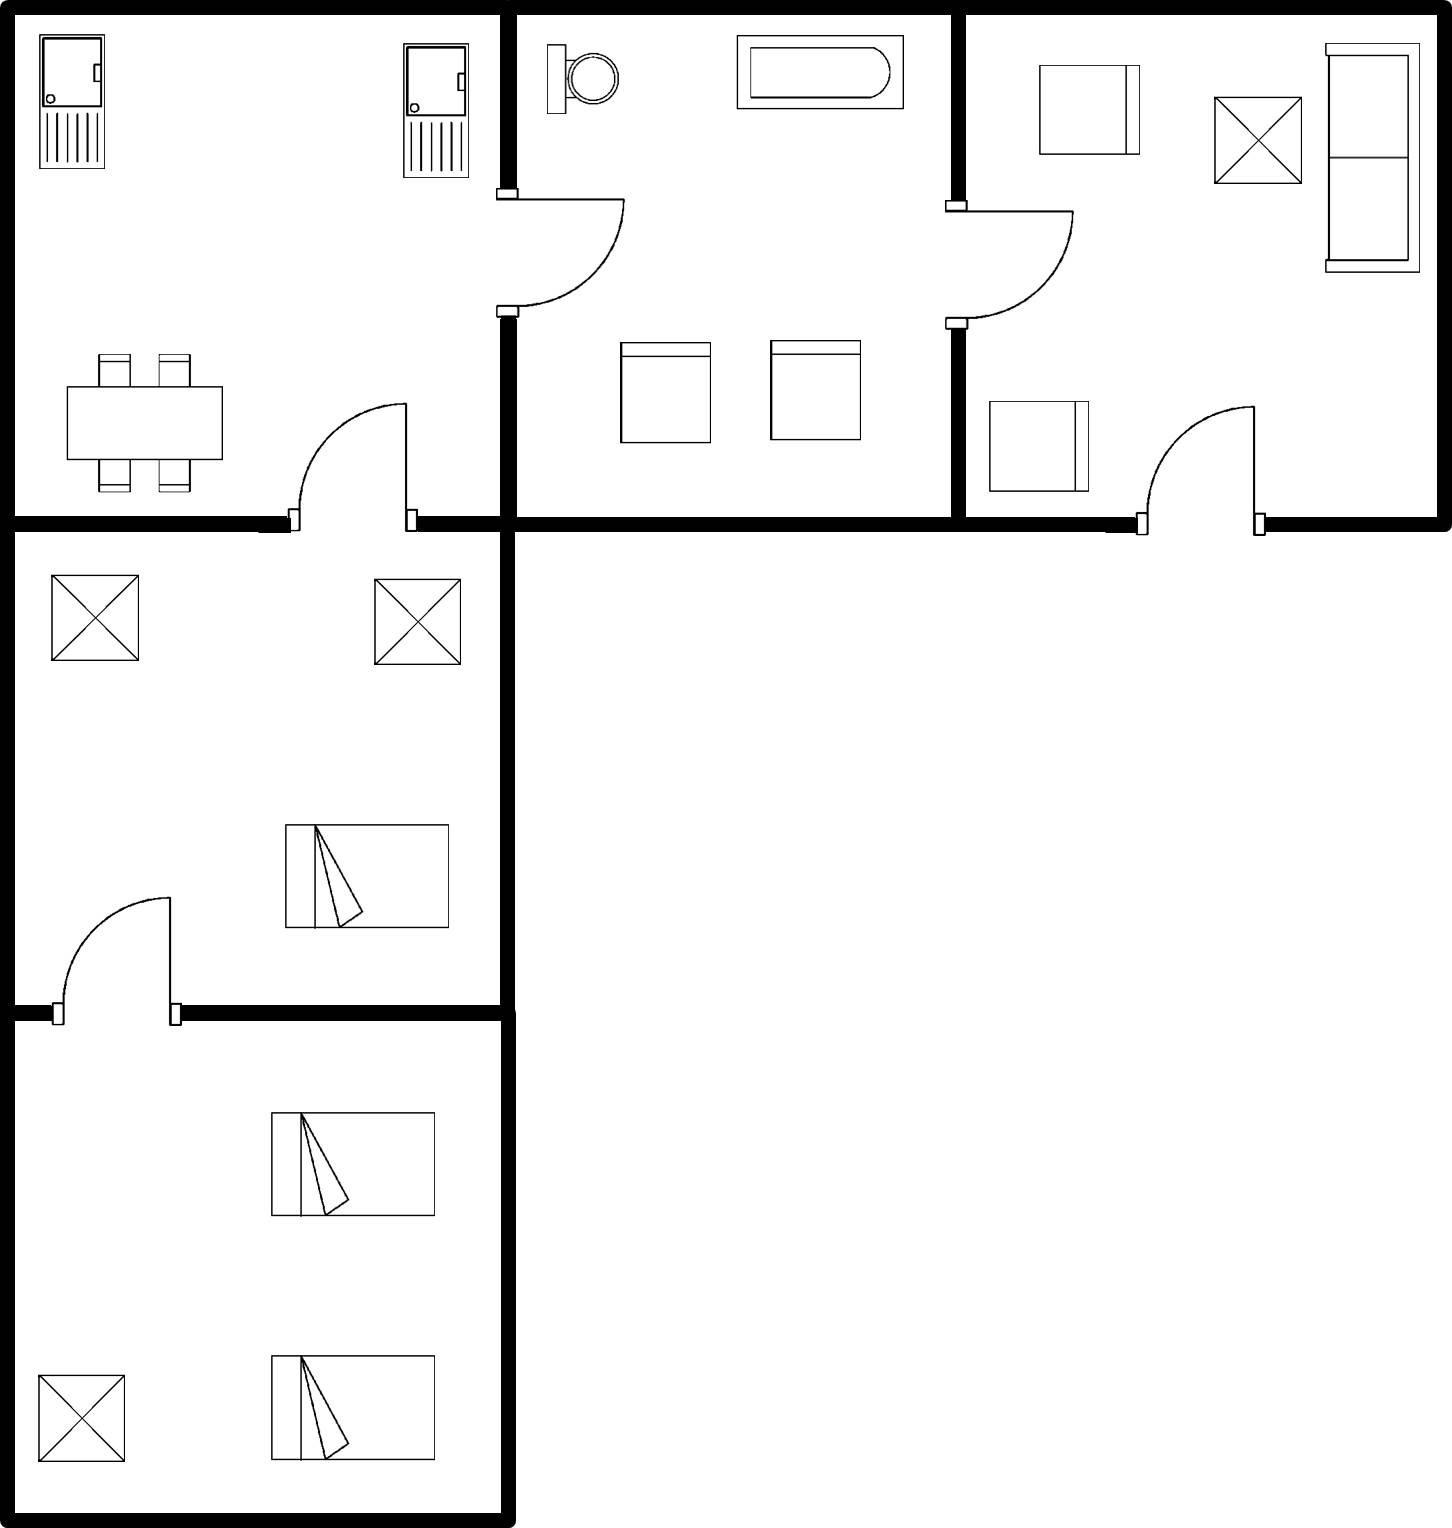bed: (261, 1341, 450, 1472), (272, 812, 462, 942), (256, 1099, 447, 1227)
coffee_table: (1202, 83, 1316, 200), (358, 568, 474, 675), (38, 565, 152, 671), (26, 1365, 135, 1474)
dining_table: (55, 342, 232, 503)
large_sink: (540, 32, 626, 129)
large_sofa: (1314, 29, 1440, 286)
sink: (26, 26, 119, 190), (393, 36, 481, 194)
small_sofa: (1025, 53, 1152, 171), (605, 333, 728, 453), (977, 383, 1099, 502), (759, 332, 870, 456)
tub: (723, 23, 913, 126)
